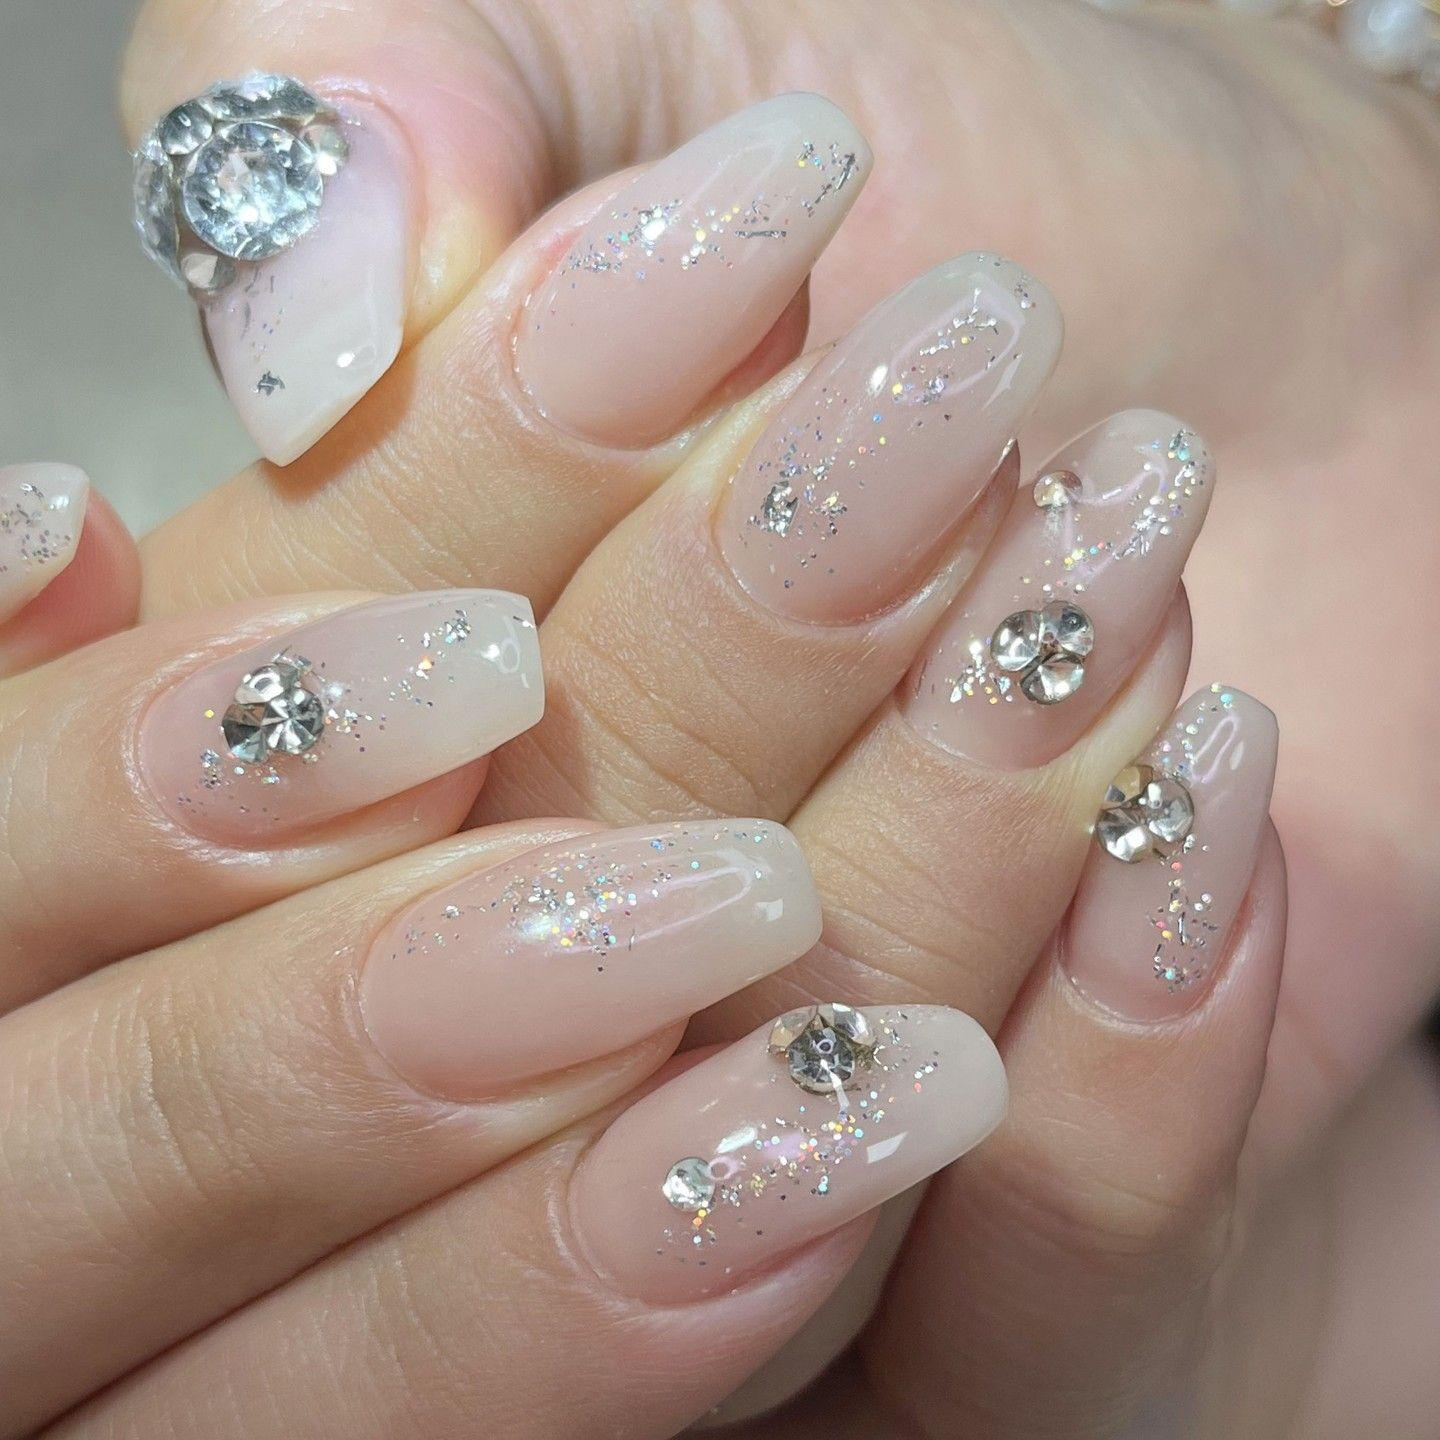nail: (564, 998, 1010, 1307), (354, 813, 824, 1104), (710, 247, 1064, 630), (505, 87, 873, 452), (894, 404, 1215, 770), (128, 67, 419, 467), (127, 584, 547, 850), (1055, 679, 1280, 1028), (0, 457, 91, 625)
